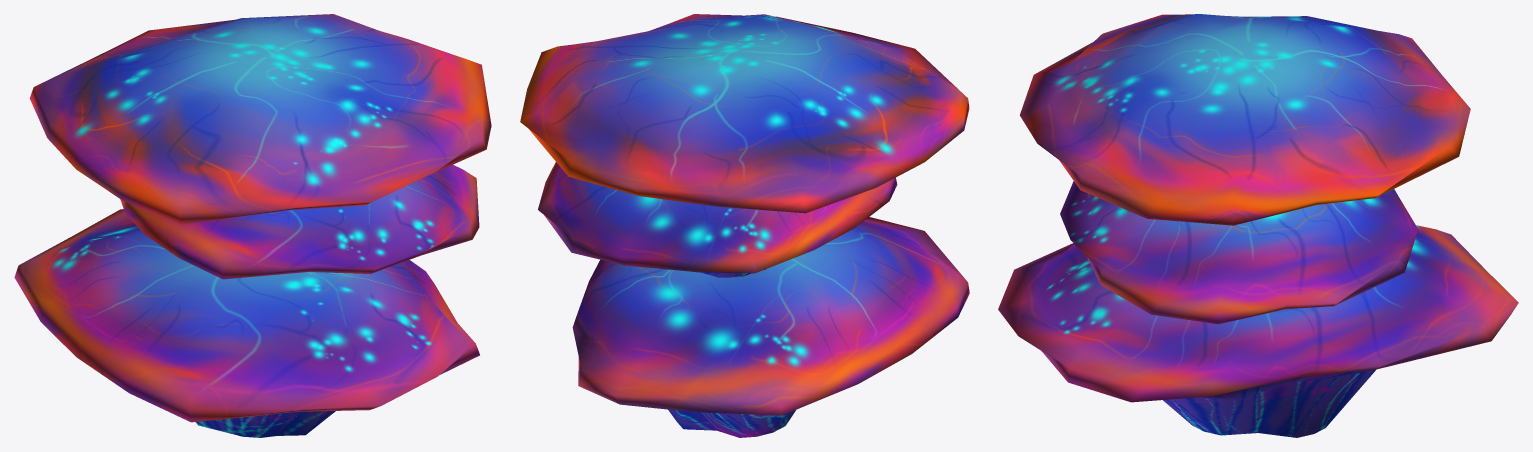
File: normal shroom resized.fbx
The picture shows the model from 3 angles, left to right: view 1: azimuth 30°, elevation 25°; view 2: azimuth 150°, elevation 25°; view 3: azimuth 270°, elevation 25°; orthographic projection. The views are drawn at different scales.
Visible parts, largest first — view 1: polySurface1; view 2: polySurface1; view 3: polySurface1.
Part boxes in pixels (<box>): polySurface1: <box>14,14,491,437</box>; polySurface1: <box>520,14,969,437</box>; polySurface1: <box>998,14,1518,437</box>.
Bounding box in the file's own units: 1.22 × 1.06 × 1.37.
